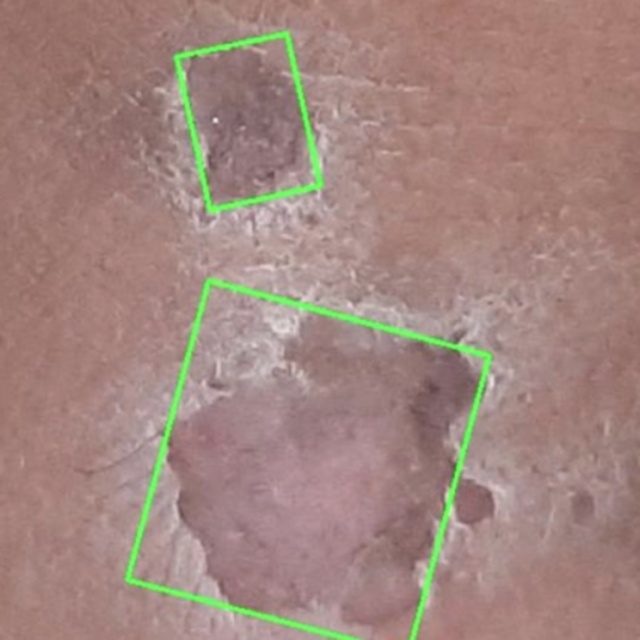Contact Dermatitis: (128, 281, 489, 639), (177, 33, 321, 211)
